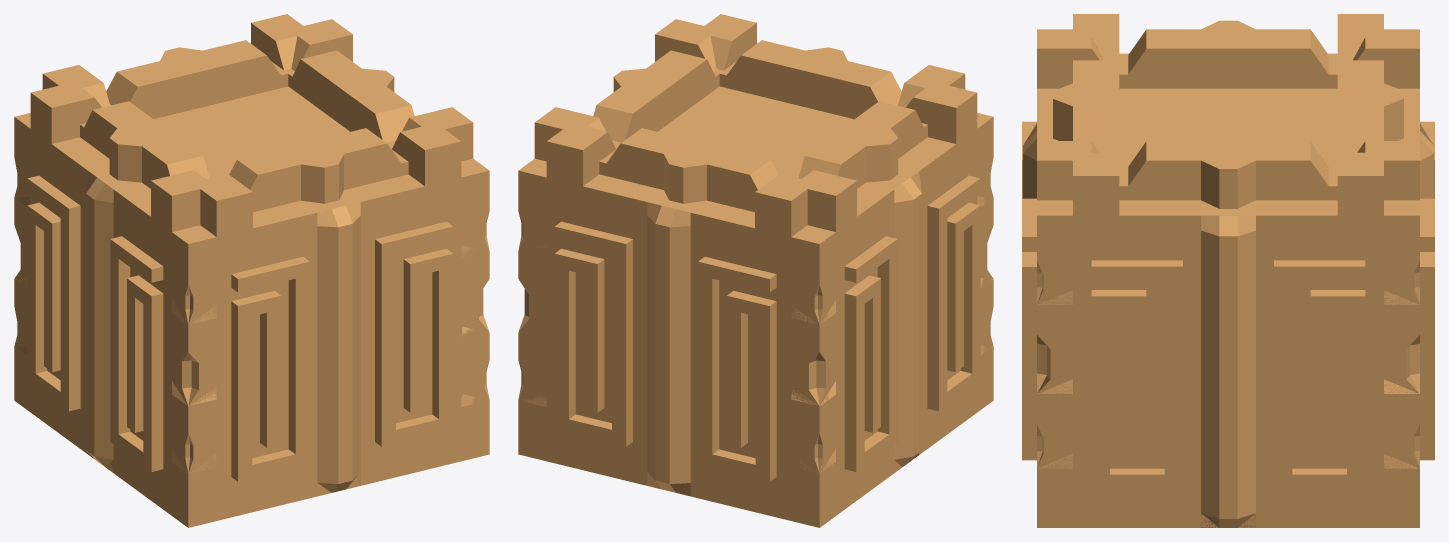
The picture shows the model from 3 angles, left to right: view 1: azimuth 30°, elevation 25°; view 2: azimuth 150°, elevation 25°; view 3: azimuth 270°, elevation 25°; orthographic projection. The views are drawn at different scales.
Visible parts, largest first — view 1: Floor Block 2, Floor Block 2.001; view 2: Floor Block 2, Floor Block 2.001; view 3: Floor Block 2, Floor Block 2.001.
Part boxes in pixels (<box>): Floor Block 2: <box>14,19,489,527</box>; Floor Block 2.001: <box>14,14,489,527</box>; Floor Block 2: <box>518,19,993,527</box>; Floor Block 2.001: <box>518,14,993,527</box>; Floor Block 2: <box>1022,14,1434,527</box>; Floor Block 2.001: <box>1037,20,1419,527</box>.
Bounding box in the file's own units: 2.16 × 2.03 × 2.16.
